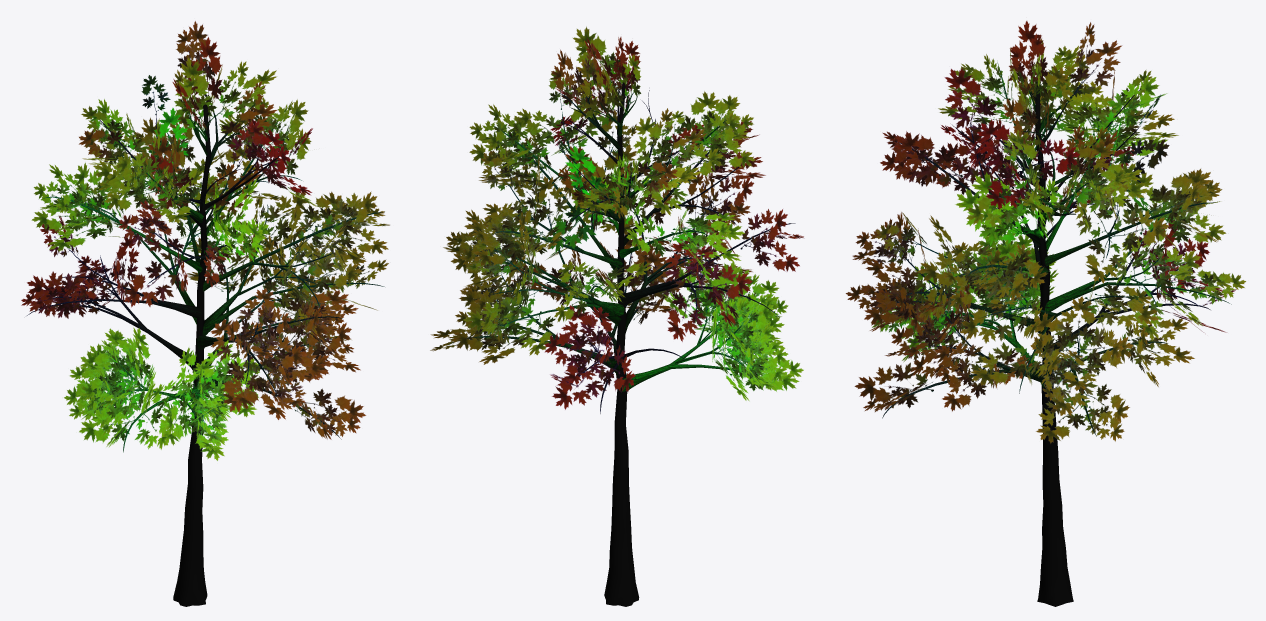
File: pine_tree.glb
3 renders of one model, left to right at view 1: azimuth 30°, elevation 25°; view 2: azimuth 150°, elevation 25°; view 3: azimuth 270°, elevation 25°, orthographic. The views are drawn at different scales.
Visible parts, largest first — view 1: SM_Maple1_MZRT; view 2: SM_Maple1_MZRT; view 3: SM_Maple1_MZRT.
Boxes of the visible parts, box(x1,y1,x2,y2) form: SM_Maple1_MZRT: box(21, 21, 389, 606); SM_Maple1_MZRT: box(430, 26, 803, 606); SM_Maple1_MZRT: box(845, 21, 1245, 606).
Size of the model in its own units: 3.79 by 5.58 by 3.54.
2 materials, 2 textured.
